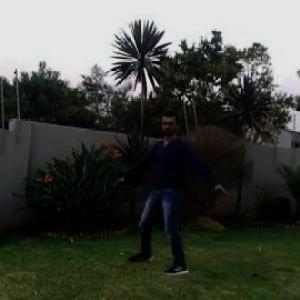land: (110, 87, 242, 299)
